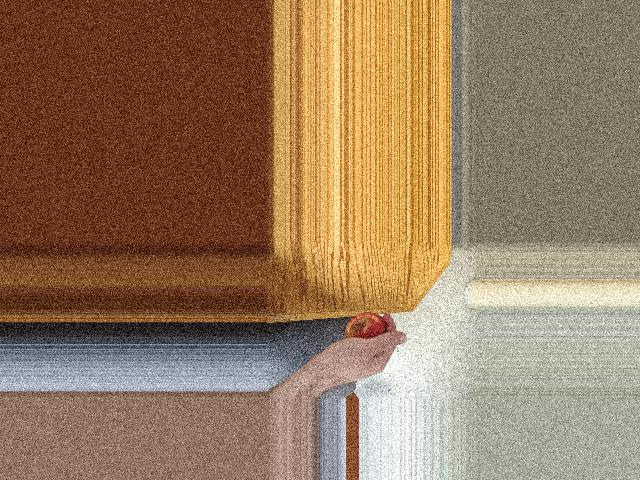apple: (344, 312, 388, 351)
